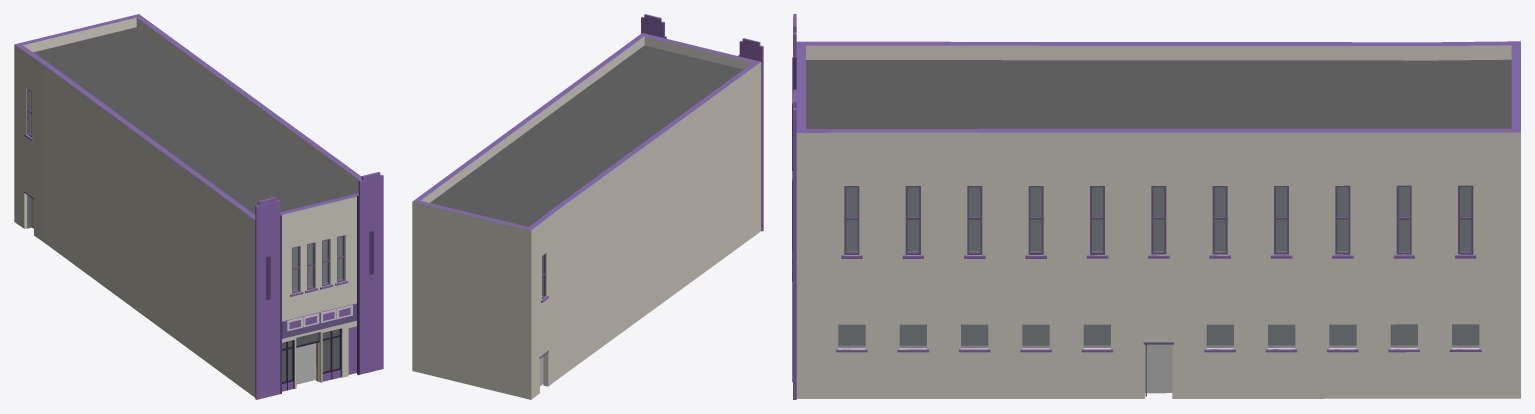
Rendered from exterior.glb.
3 renders of one model, left to right at view 1: azimuth 30°, elevation 25°; view 2: azimuth 150°, elevation 25°; view 3: azimuth 270°, elevation 25°, orthographic. The views are drawn at different scales.
Parts seen in each view (by area): view 1: shell, roof, hand-ornament, shadow-proxy, glazing, storefront, frames, front-dressing; view 2: shell, roof, hand-ornament; view 3: shell, roof, glazing, shadow-proxy, frames, trim, hand-ornament.
Part boxes in pixels (x1,y1,x2,y2): shell: (14,14,361,397); roof: (33,27,358,214); hand-ornament: (255,172,383,399); shadow-proxy: (31,198,341,384); glazing: (29,91,343,382); storefront: (23,191,356,391); frames: (27,89,345,293); front-dressing: (282,303,356,338); shell: (412,33,761,399); roof: (430,45,743,226); hand-ornament: (641,14,763,231); shell: (796,41,1520,398); roof: (806,59,1511,128); glazing: (838,187,1479,348); shadow-proxy: (838,187,1478,393); frames: (844,185,1473,254); trim: (836,254,1481,352); hand-ornament: (792,14,796,399).
Bounding box in the file's own units: 8.07 × 11.93 × 26.67.
